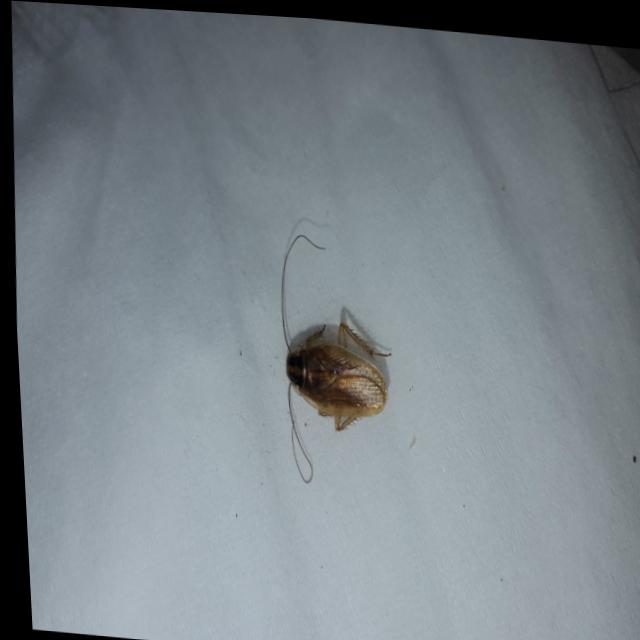Cockroach: (255, 214, 404, 501)
